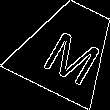M_NE: (33, 16, 103, 82)
